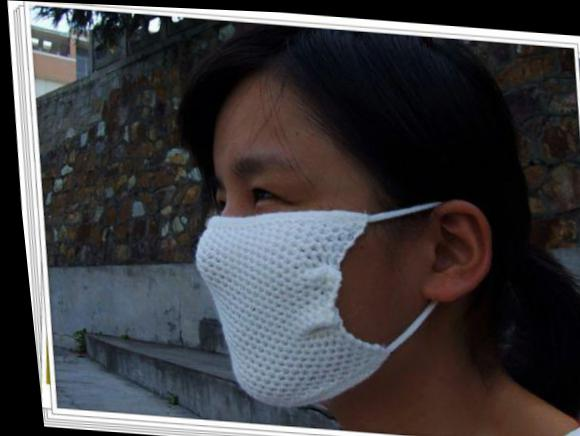WRONG: (175, 118, 395, 414)
